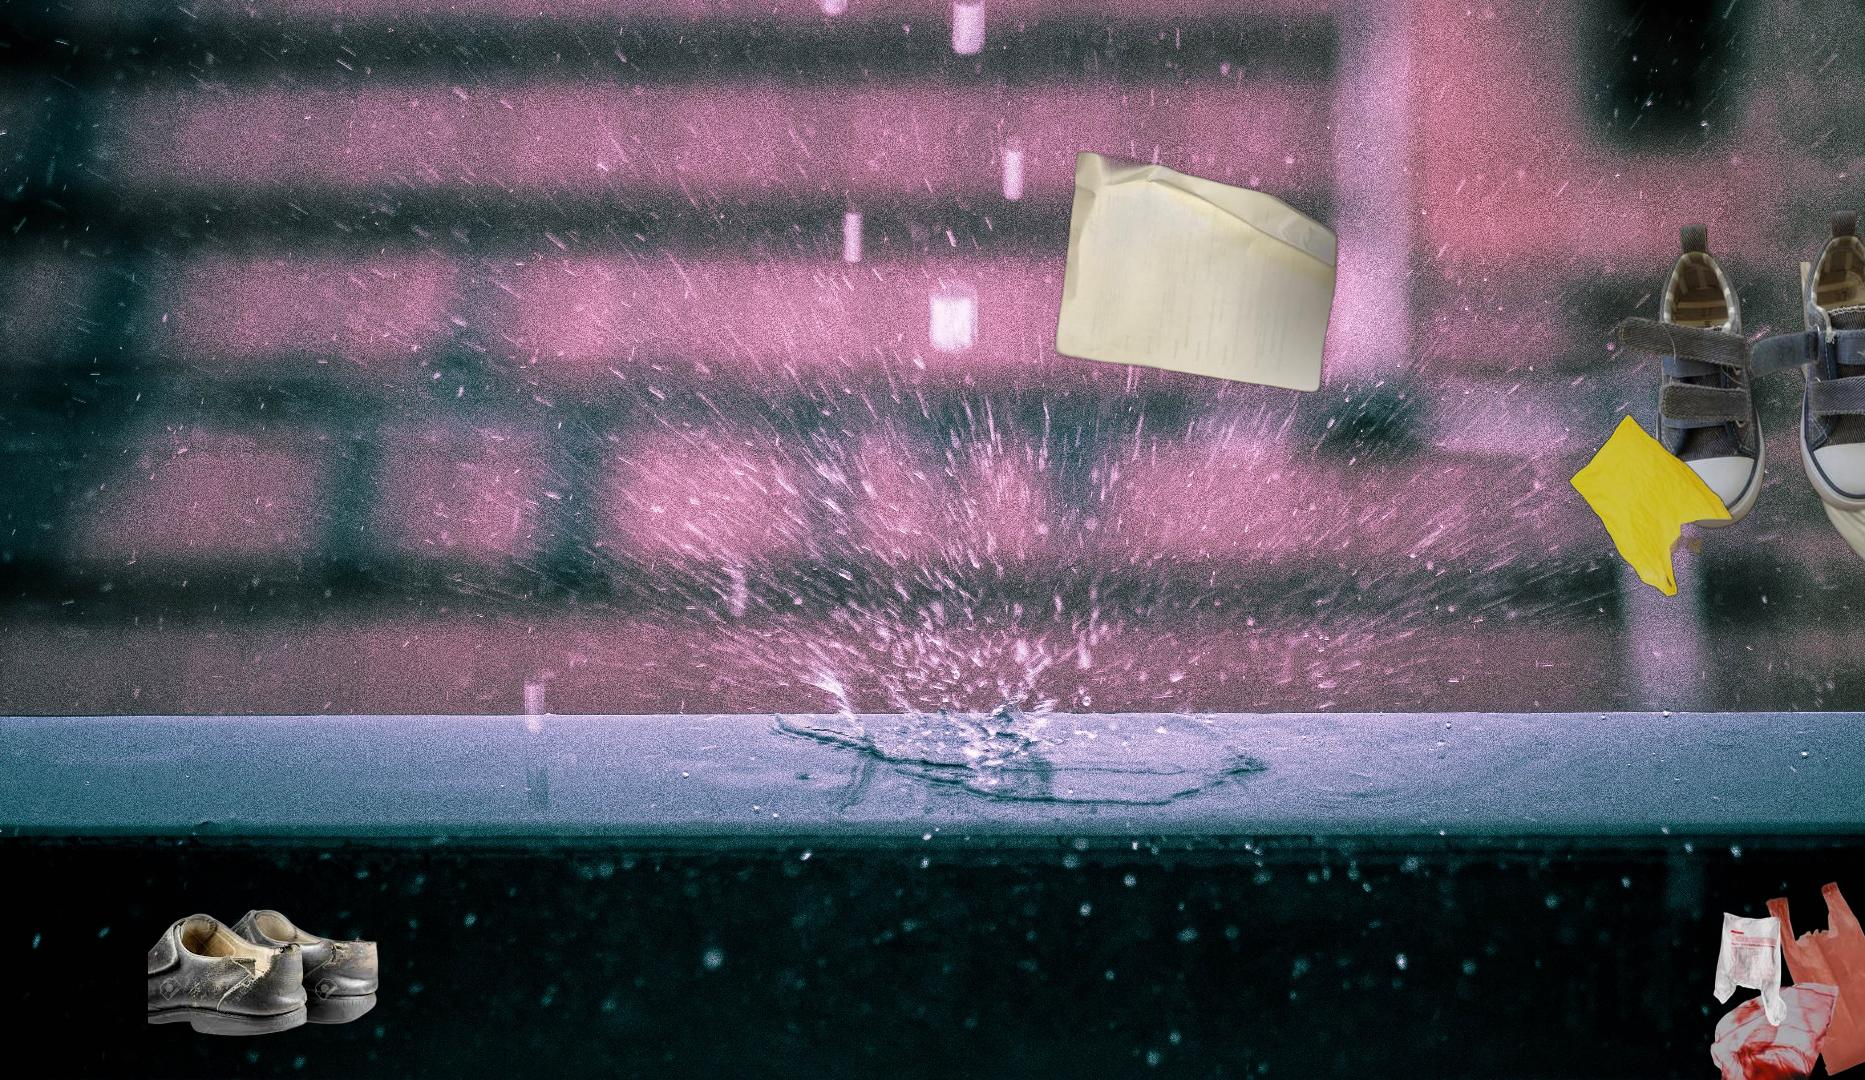glass: (1794, 262, 1865, 586)
paper: (1049, 148, 1341, 396)
plastic-bag: (1567, 408, 1805, 697), (1664, 879, 1865, 1080)
shoes: (1614, 105, 1865, 639), (148, 906, 380, 1039)
